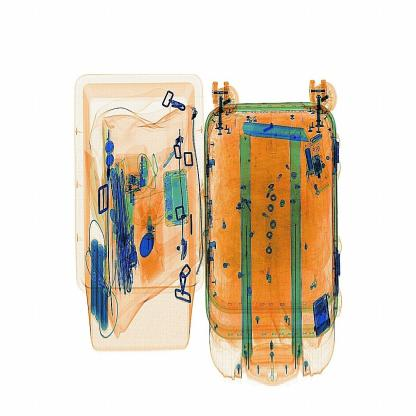pliers: (242, 116, 312, 148)
